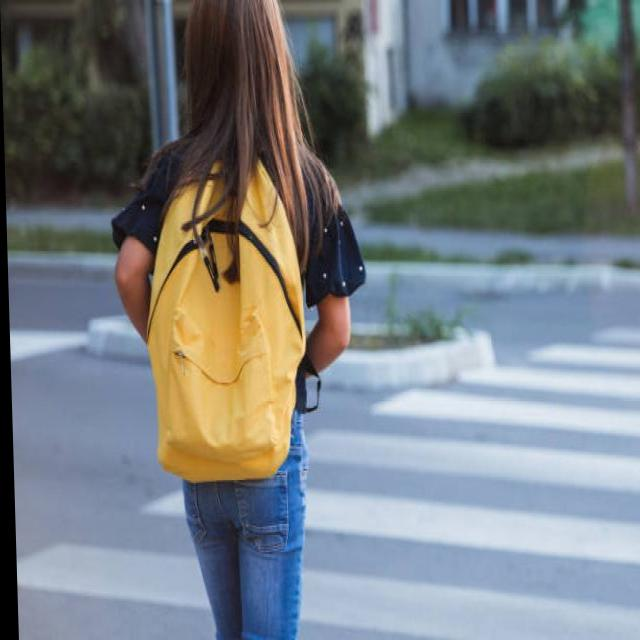no helmet: (166, 0, 331, 213)
